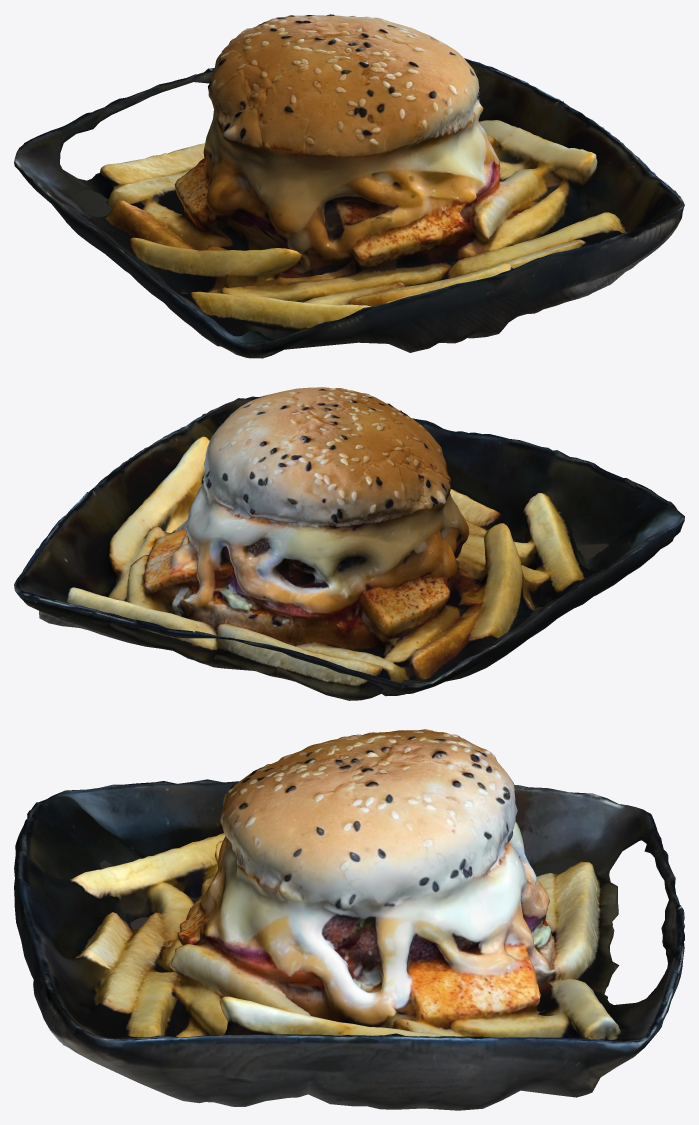
File: Burger.glb
3 renders of one model, top to bottom at view 1: azimuth 30°, elevation 25°; view 2: azimuth 150°, elevation 25°; view 3: azimuth 270°, elevation 25°, orthographic. The views are drawn at different scales.
Visible parts, largest first — view 1: Mesh; view 2: Mesh; view 3: Mesh.
Part boxes in pixels (x1=…): Mesh: x1=14, y1=14, x2=684, y2=358; Mesh: x1=14, y1=387, x2=684, y2=700; Mesh: x1=14, y1=729, x2=684, y2=1110.
Size of the model in its own units: 0.1844 by 0.0755 by 0.1909.
Materials: 1 (1 with a texture image).
